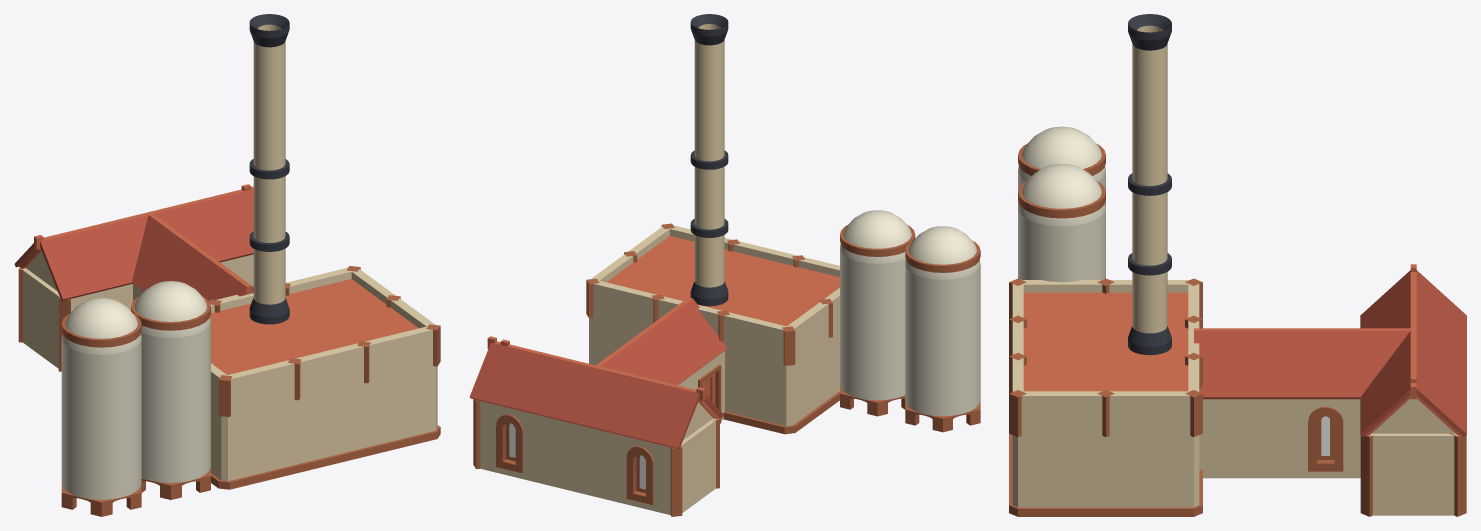
The model's file is centrale_au_methane.glb.
3 views of the same model, side by side, from view 1: azimuth 30°, elevation 25°; view 2: azimuth 150°, elevation 25°; view 3: azimuth 270°, elevation 25° (orthographic). The views are drawn at different scales.
Visible parts, largest first — view 1: mergedBlocks(Clone); view 2: mergedBlocks(Clone); view 3: mergedBlocks(Clone).
Boxes of the visible parts, x1,y1,x2,y2 form: mergedBlocks(Clone): (14, 14, 440, 516); mergedBlocks(Clone): (469, 14, 980, 516); mergedBlocks(Clone): (1009, 14, 1466, 516).
Size of the model in its own units: 5.23 by 5.45 by 5.21.
Materials: 1 (1 with a texture image).
